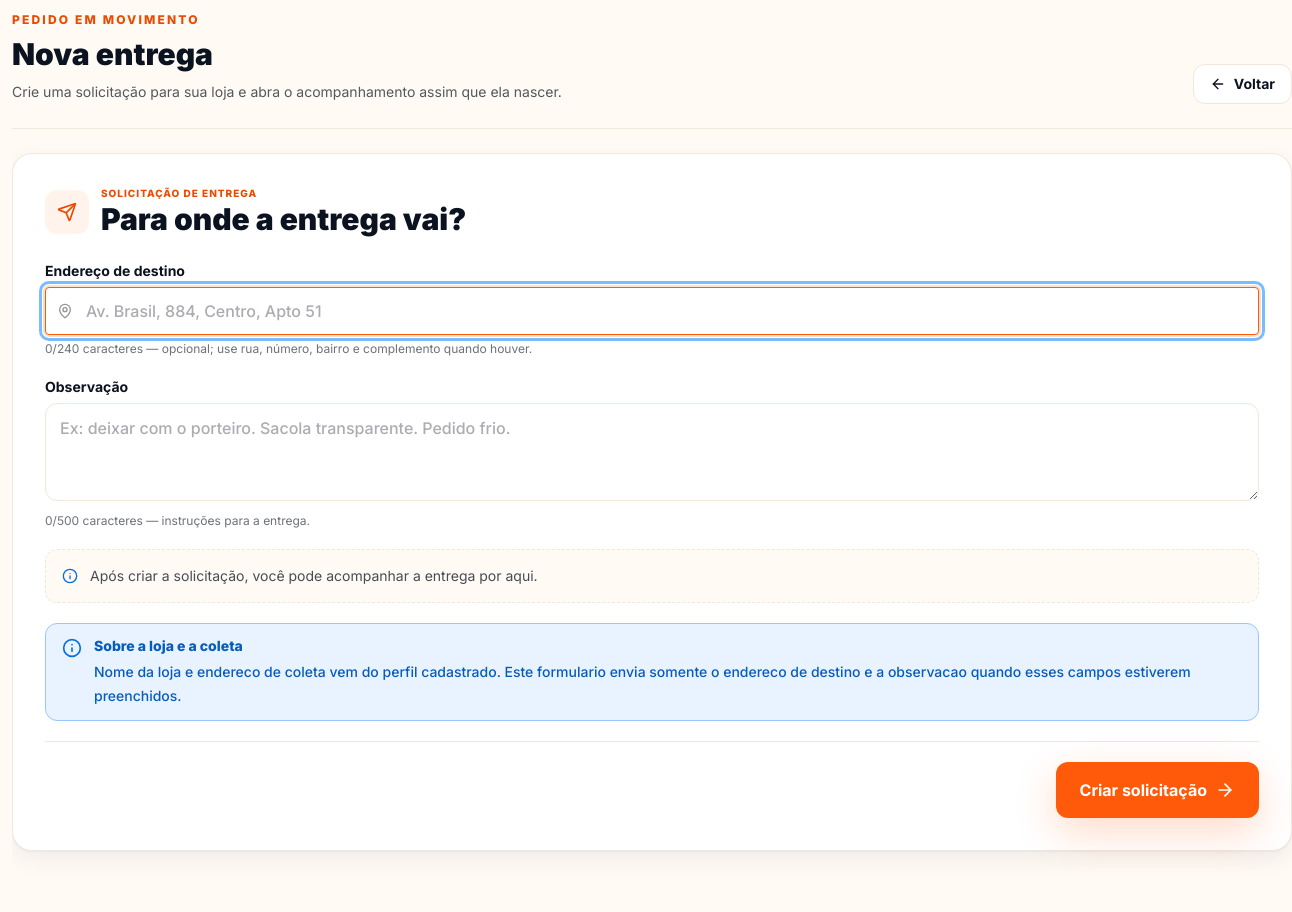
it: NovaEntregaFlow › refreshes the created card manually through the REST detail endpoint
The image size is (1292, 912).
Click the button "Criar solicitação". click: (1157, 790)
box: [1056,762,1259,818]
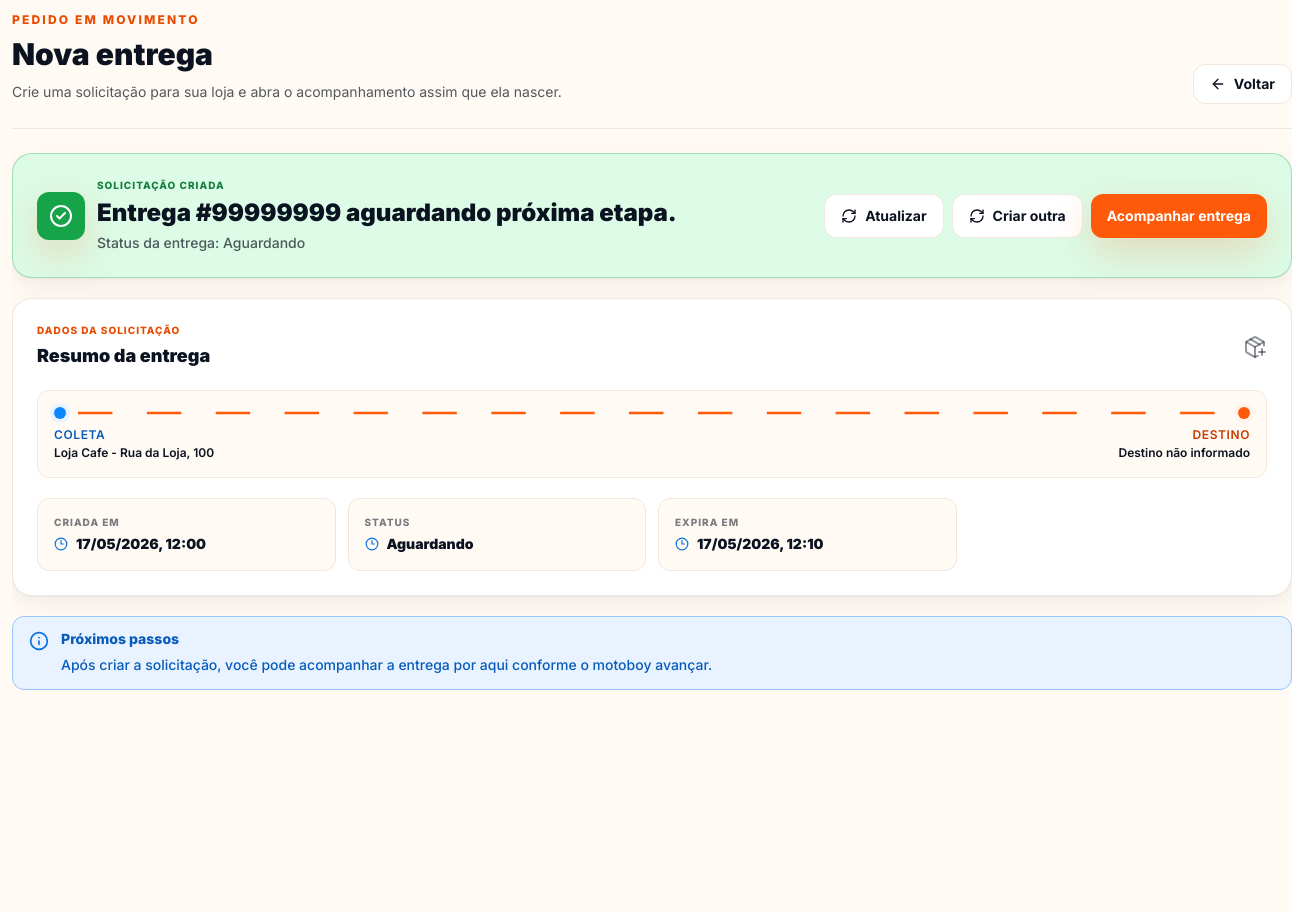
Click the button "Atualizar". click: (884, 216)
box: [824,194,944,238]
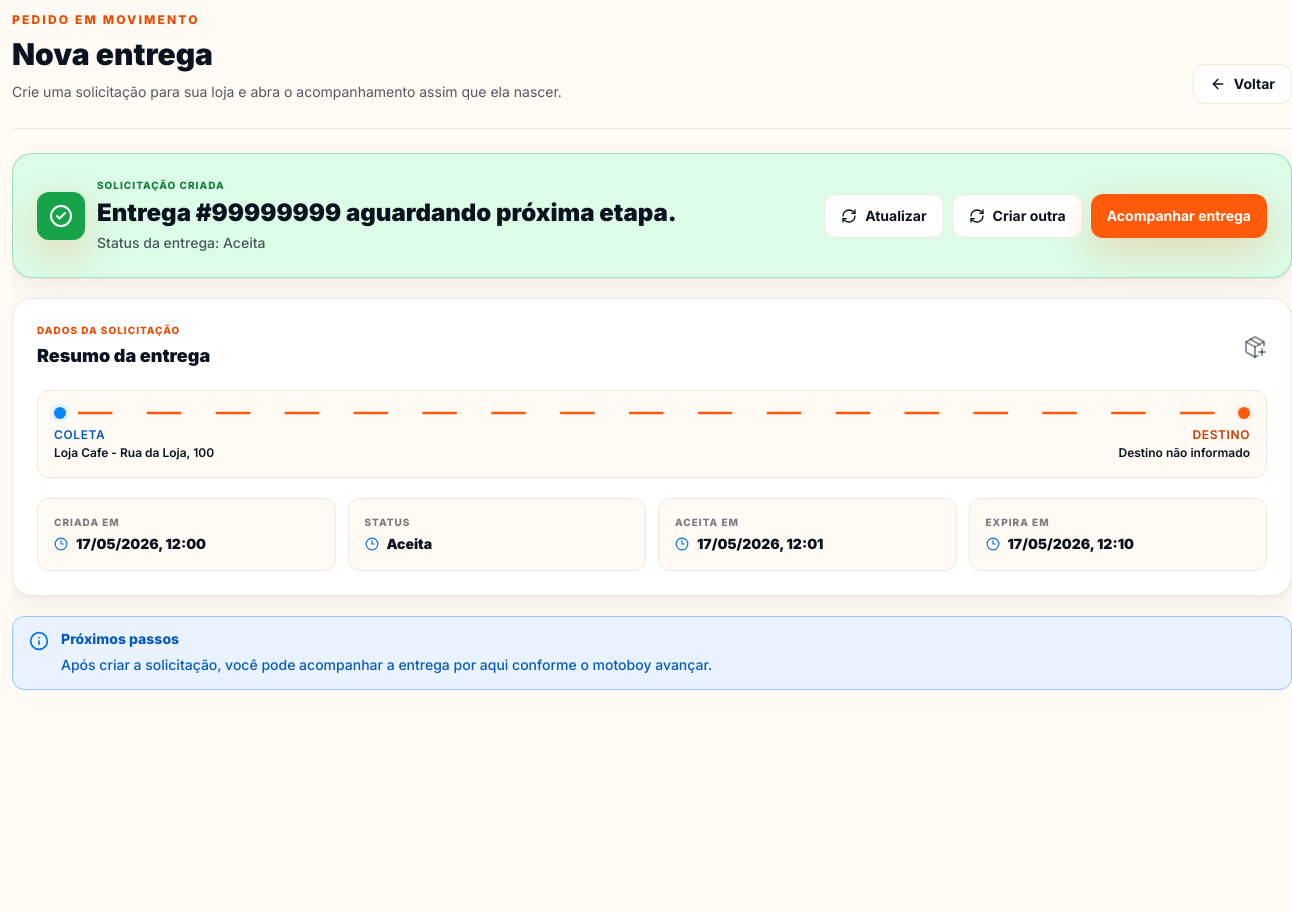
Expected: the text "Status da entrega: Aceita" is shown, [97,234,266,251]
